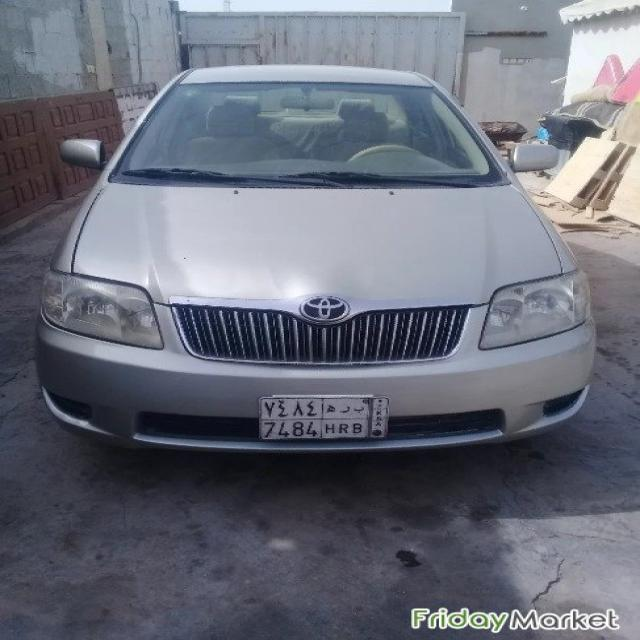license_plate: (255, 394, 394, 444)
